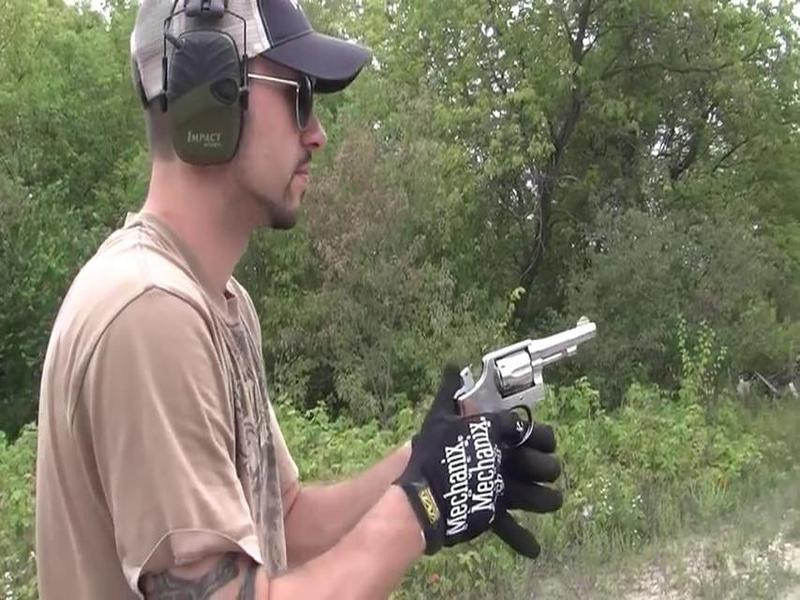Revolver: (439, 310, 627, 434)
